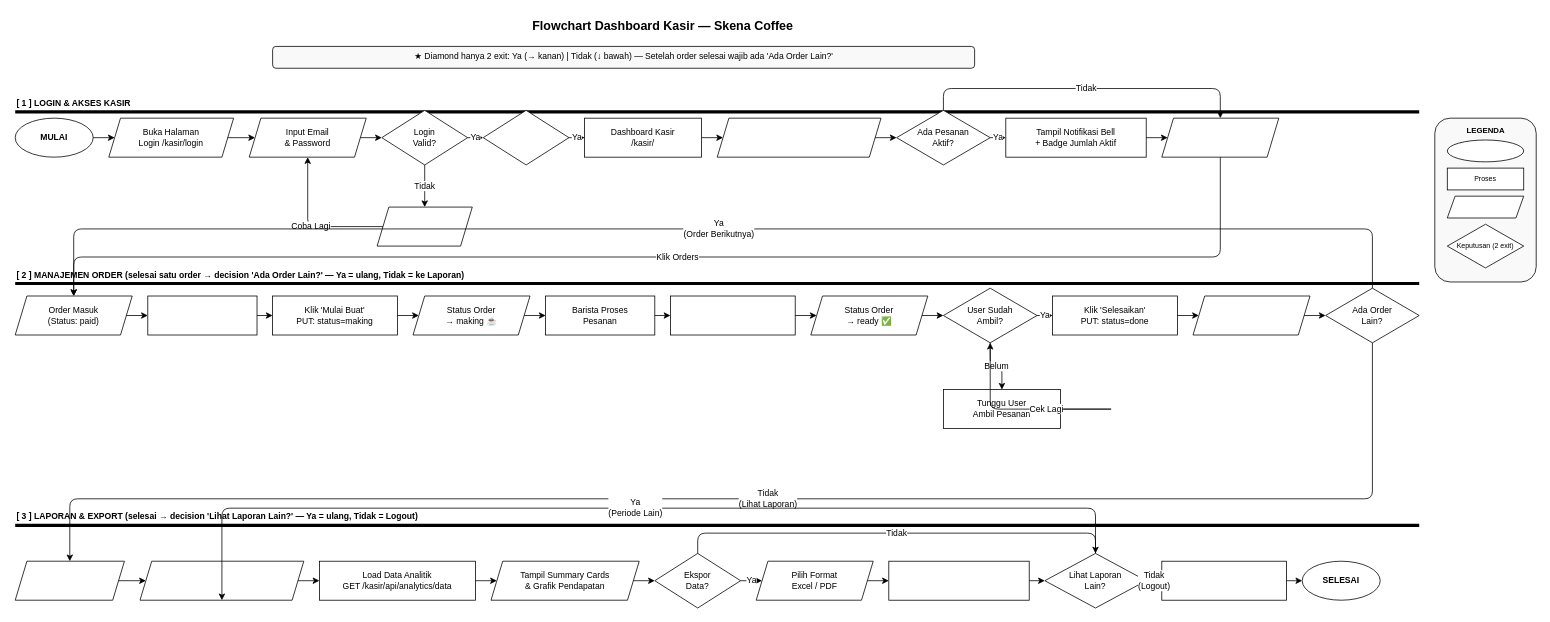
Image size: 1550x622. Some labels were removed from this diagram. The shapes that lost their labels are listed below. From the top down, each one's centre as x and y in pixels, then its label:
the point at 525,137: Role Kasir?
the point at 798,137: Tampil Statistik (Order, Pendapatan, Aktif, Avg)
the point at 1220,137: Pilih Menu Navigasi
the point at 1485,150: Start / End
the point at 424,226: Tampilkan Pesan Error
the point at 1485,206: Input / Output
the point at 202,315: Kasir Cek Detail Order
the point at 732,315: Klik 'Tandai Siap' PUT: status=ready
the point at 1251,315: Status Order → done 🎉
the point at 69,580: Buka Menu 'Laporan'
the point at 221,580: Pilih Rentang Waktu (Hari / Minggu / Bulan / Custom)
the point at 958,580: Download File (export-csv / export-pdf)
the point at 1224,580: Klik Logout POST /admin/logout
